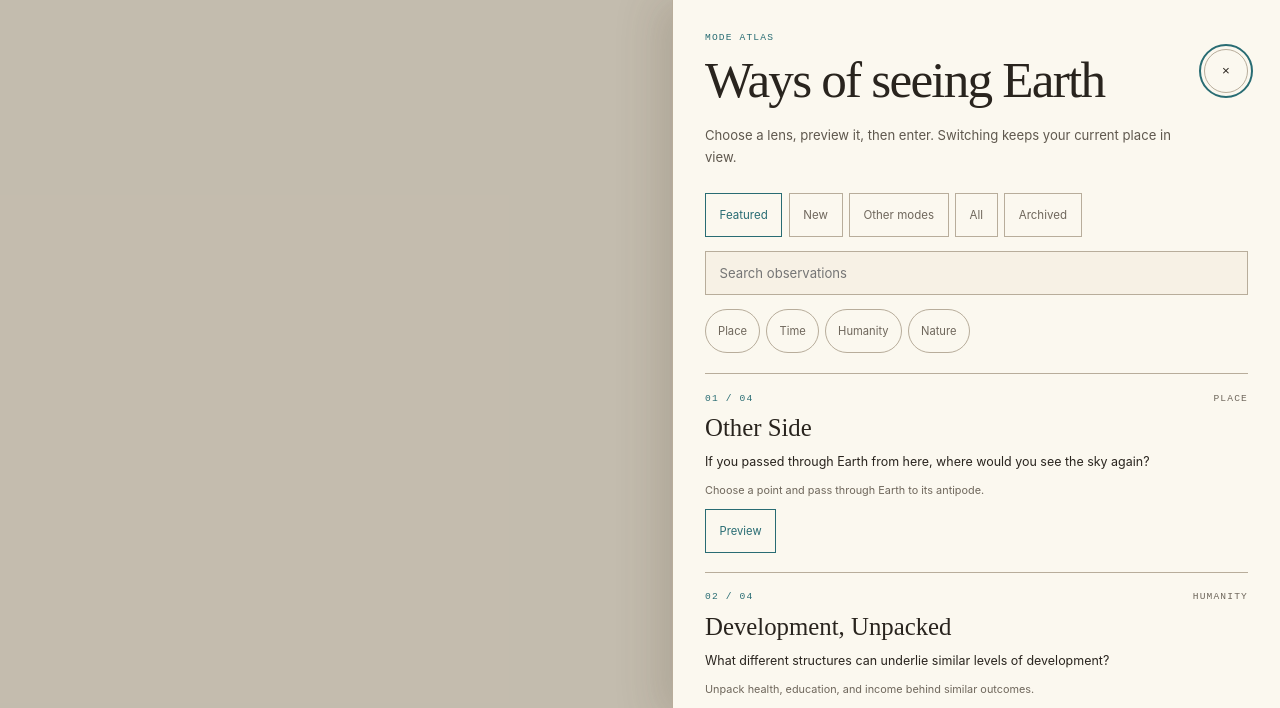
Test: ModeAtlas › filters the list by search text
Click the tab "All" at x=976, y=214, box [955,192,998,236]
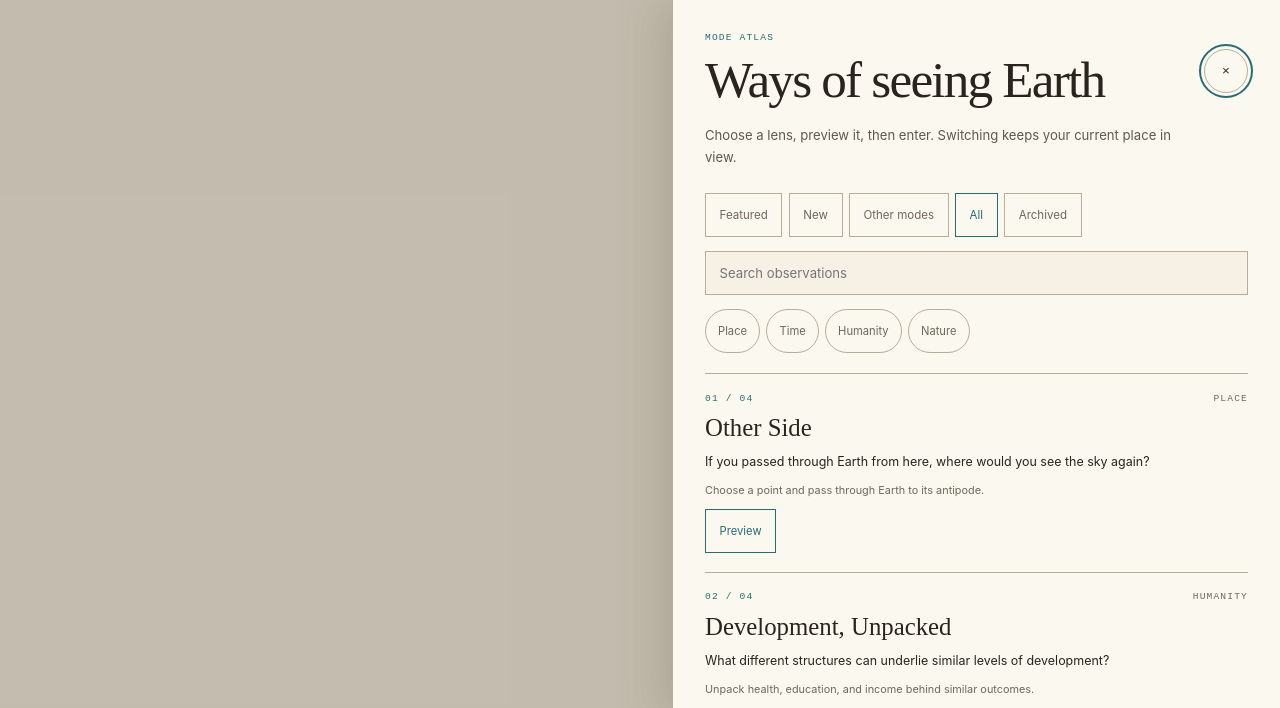
Type "Sunline" into the search field labelled "Search observations" at x=976, y=273, box [705,251,1248,295]
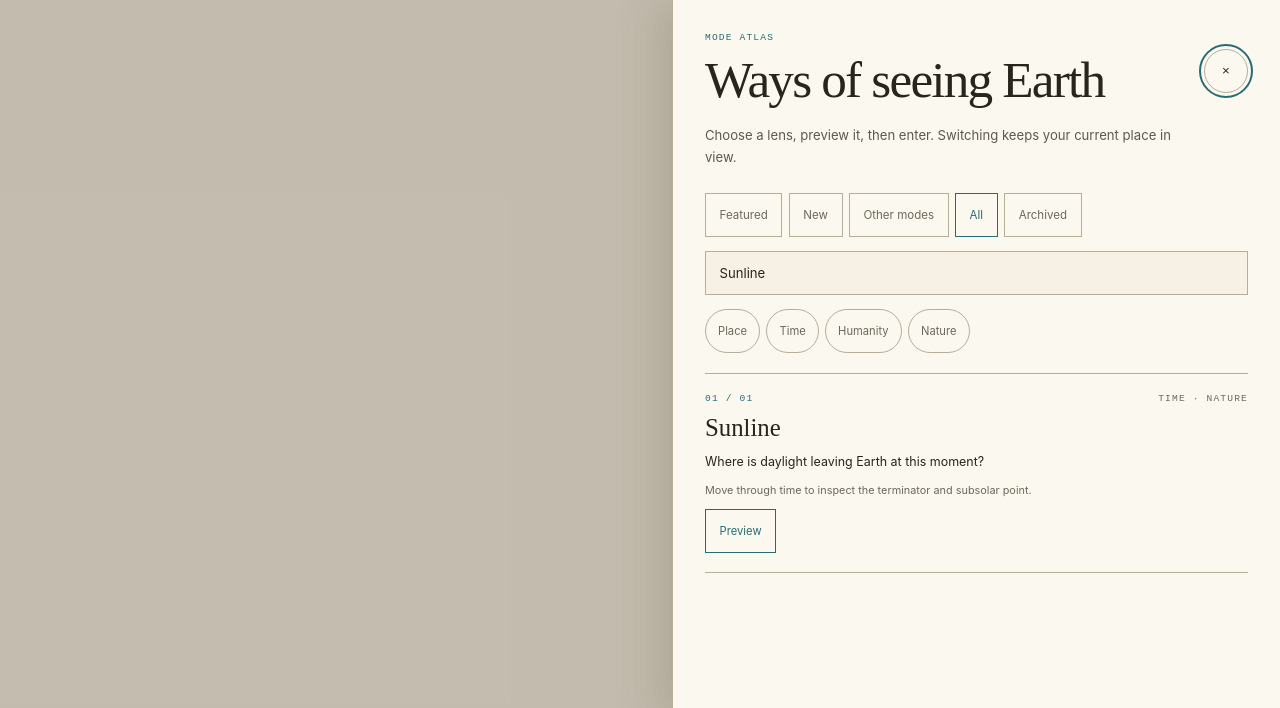
Result: the heading "Sunline" is shown at [705,414,781,441]
Result: the heading "Other Side" is gone
